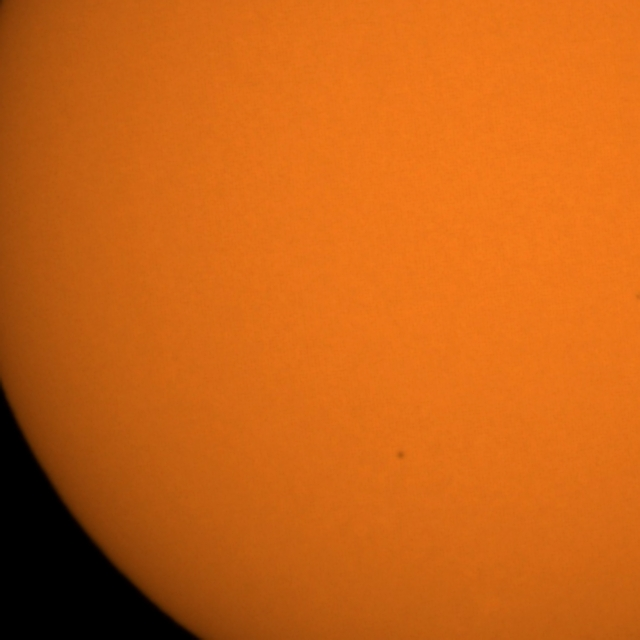sunspot: (394, 448, 407, 463), (634, 290, 640, 303)
